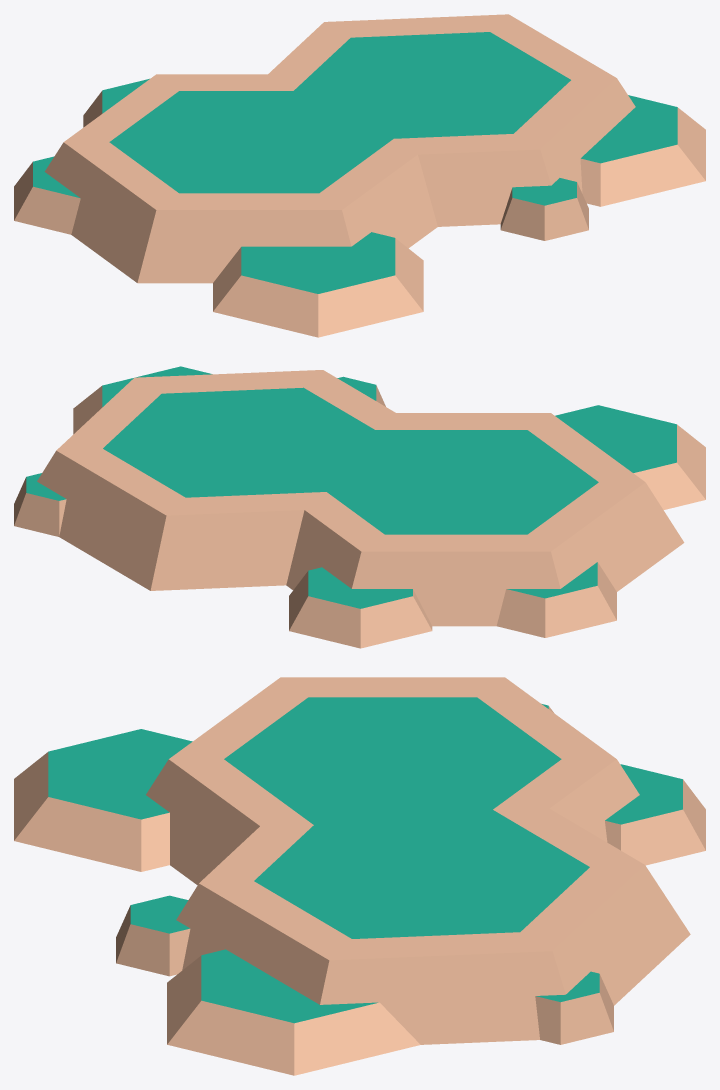
File: platform_grass.glb
3 views of the same model, one above another, from view 1: azimuth 30°, elevation 25°; view 2: azimuth 150°, elevation 25°; view 3: azimuth 270°, elevation 25° (orthographic). The views are drawn at different scales.
Visible parts, largest first — view 1: platform_grass; view 2: platform_grass; view 3: platform_grass.
Boxes of the visible parts, box(x1,y1,x2,y2) form: platform_grass: box(14, 14, 705, 337); platform_grass: box(14, 366, 705, 648); platform_grass: box(14, 677, 705, 1075).
Bounding box in the file's own units: 0.8932 × 0.0825 × 0.7239.
